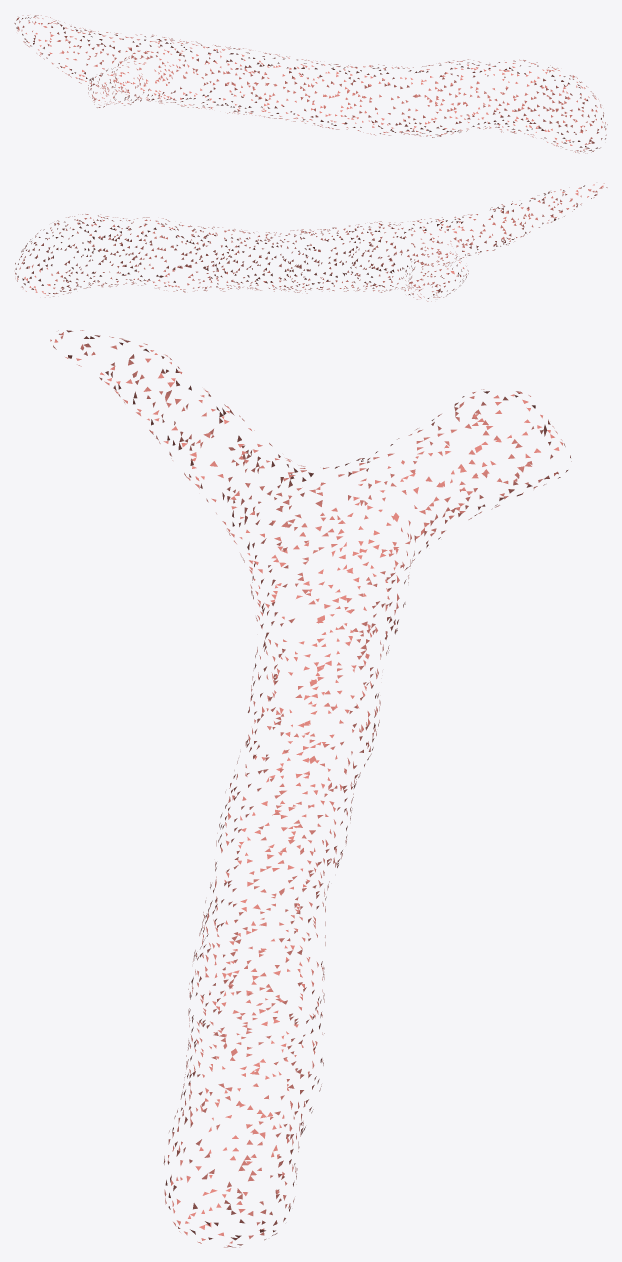
File: morph_001.glb
The picture shows the model from 3 angles, top to bottom: view 1: azimuth 30°, elevation 25°; view 2: azimuth 150°, elevation 25°; view 3: azimuth 270°, elevation 25°; orthographic projection. The views are drawn at different scales.
Size of the model in its own units: 132 by 48.56 by 54.76.
